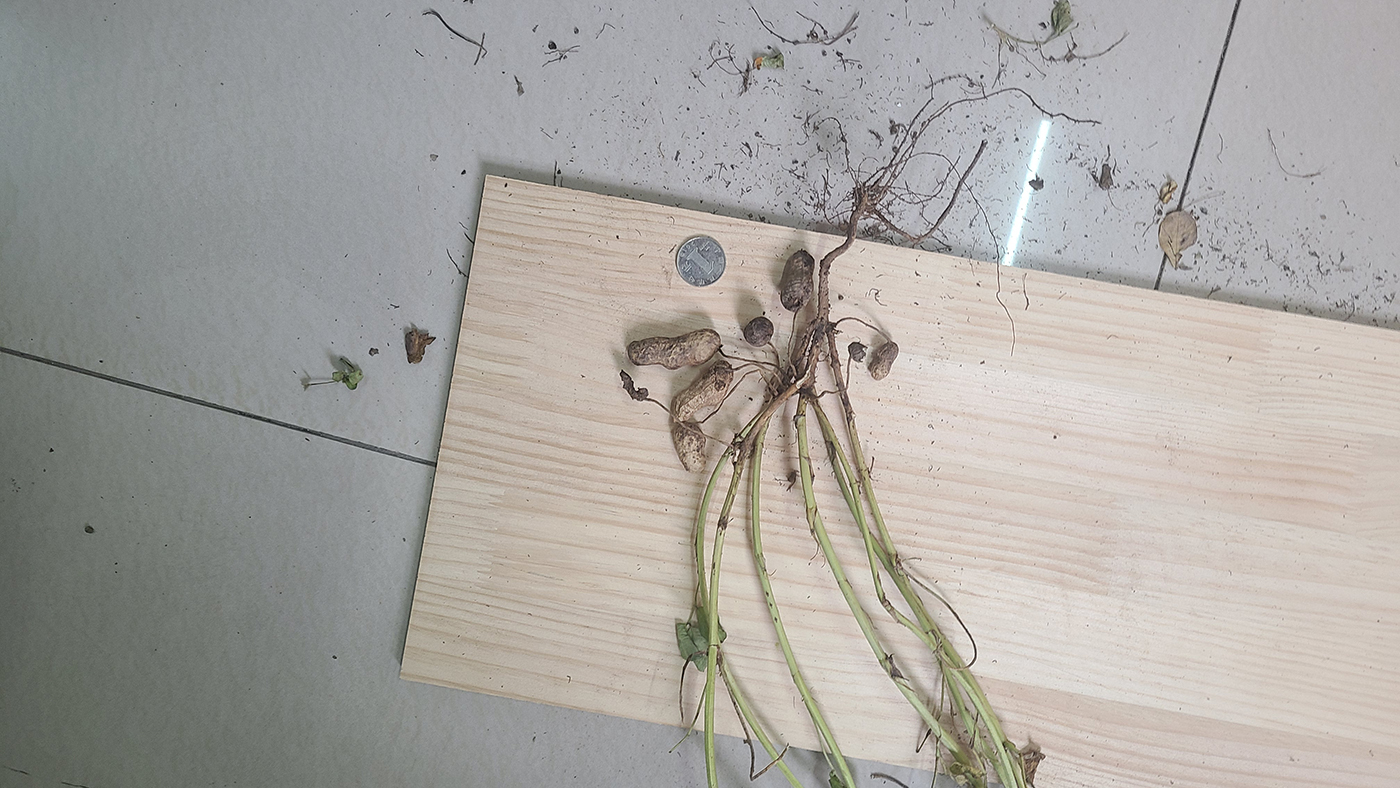h: (672, 425, 706, 473)
l: (626, 330, 722, 371), (669, 364, 734, 421), (780, 248, 815, 314), (869, 342, 899, 380), (744, 317, 776, 348), (620, 370, 650, 401), (848, 342, 866, 363)
